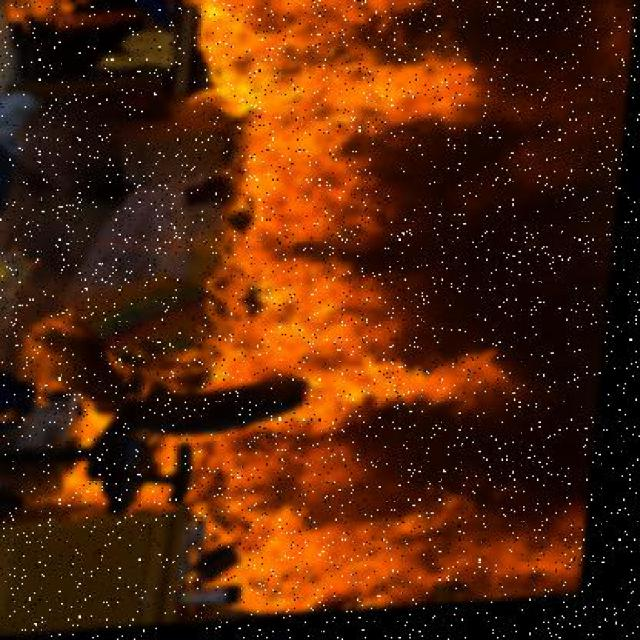fire: (172, 1, 639, 627)
